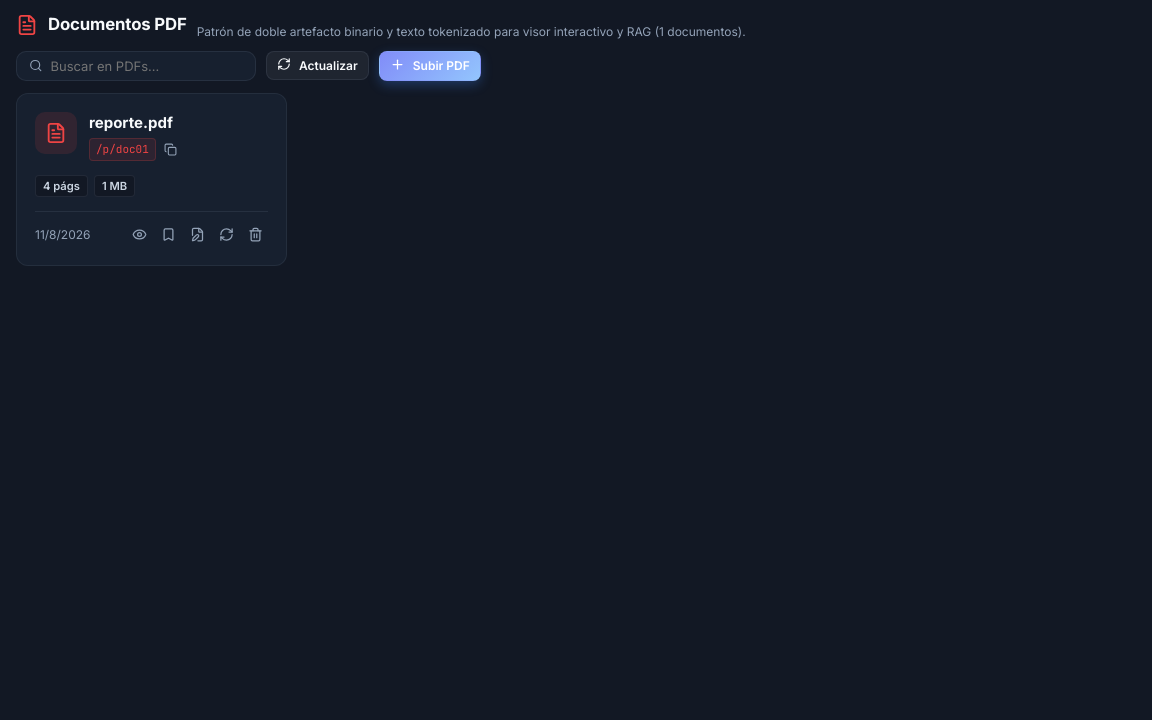
Test: PdfsCatalogView › renderiza la lista de PDFs y permite abrir el modal de subida
Check: the text "reporte.pdf" is shown, box x1=89 y1=113 x2=173 y2=132
Check: the text "4 págs" is shown, box x1=35 y1=175 x2=88 y2=197
Click the button "Subir PDF". click: (430, 66)
box: x1=379 y1=51 x2=481 y2=81
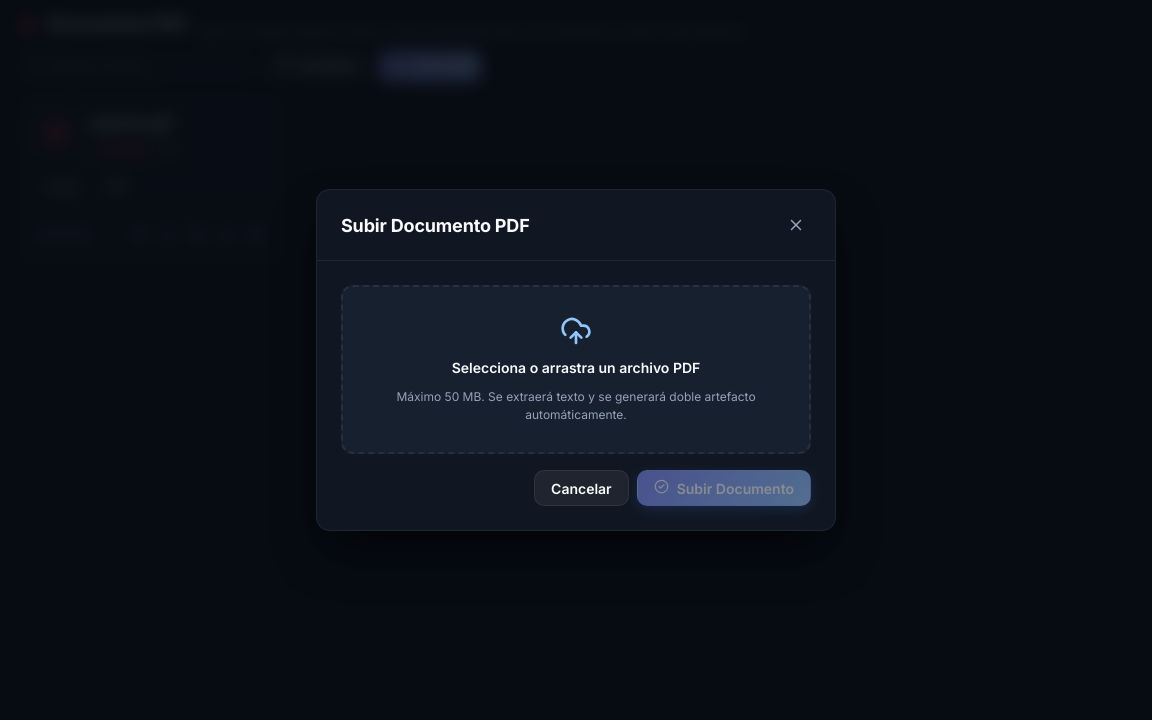
Check: the heading "Subir Documento PDF" is shown, box x1=341 y1=212 x2=530 y2=238
